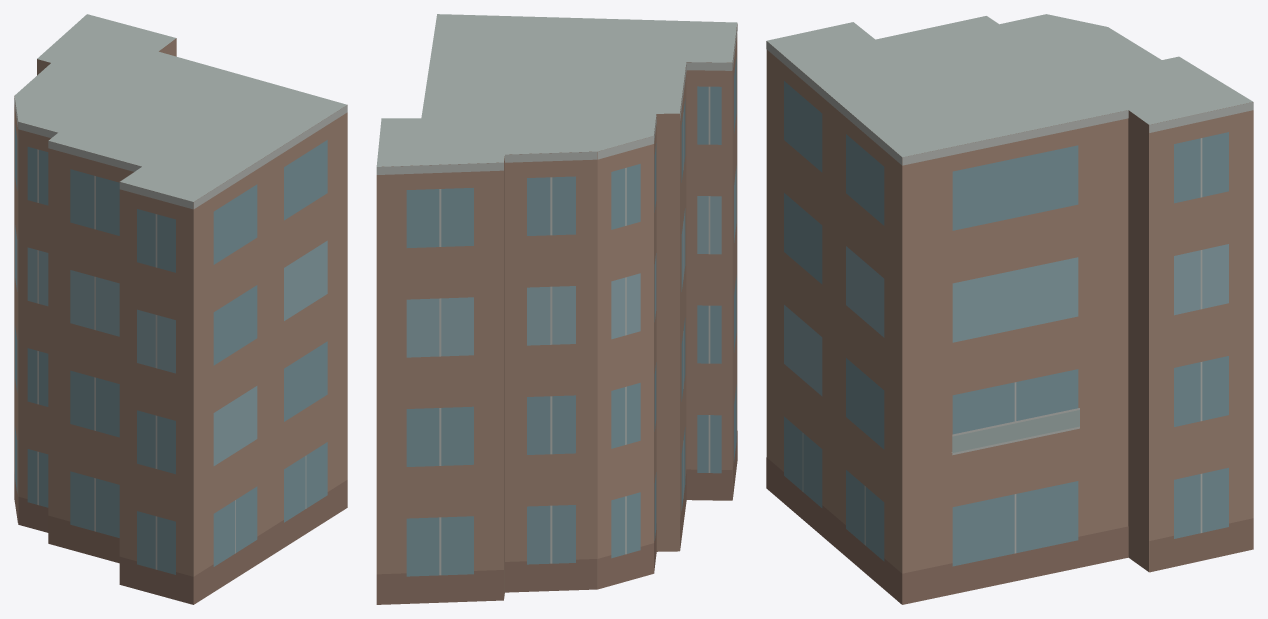
The model's file is survey-upis-32937163.glb.
3 renders of one model, left to right at view 1: azimuth 30°, elevation 25°; view 2: azimuth 150°, elevation 25°; view 3: azimuth 270°, elevation 25°, orthographic. The views are drawn at different scales.
Visible parts, largest first — view 1: survey-upis-32937163.tmp; view 2: survey-upis-32937163.tmp; view 3: survey-upis-32937163.tmp.
Part boxes in pixels (left/top/right/bottom): survey-upis-32937163.tmp: left=14, top=14, right=347, bottom=604; survey-upis-32937163.tmp: left=376, top=14, right=737, bottom=604; survey-upis-32937163.tmp: left=766, top=14, right=1253, bottom=604.
Bounding box in the file's own units: 9.01 × 13.1 × 12.93.
